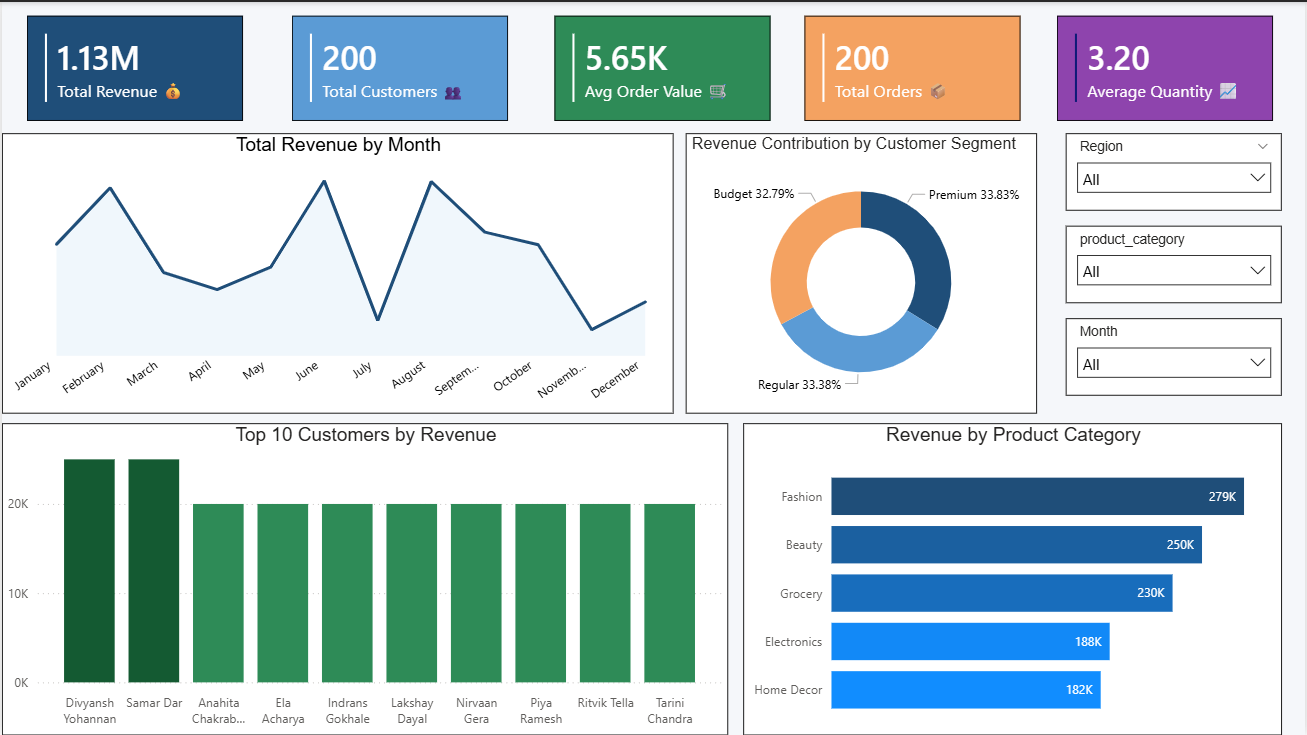

Layout of this report page (visuals, bound fields, positions):
{"tool":"powerbi","page":{"name":"Customer Analytics & Revenue Insights Dashboard","canvas":[1280,720],"ordinal":0},"visuals":[{"type":"cardVisual","fields":{"Data":["customer_purchase_records.Total Revenue"]},"box":[24.5,13.5,212.3,103.1],"z":0},{"type":"cardVisual","fields":{"Data":["customer_purchase_records.Total Orders"]},"box":[787.7,13.5,212.3,103.1],"z":1000},{"type":"cardVisual","fields":{"Data":["customer_purchase_records.Total Customers"]},"box":[284.7,13.5,212.3,103.1],"z":2000},{"type":"cardVisual","fields":{"Data":["customer_purchase_records.Avg Order Value"]},"box":[542.3,13.5,212.3,103.1],"z":3000},{"type":"cardVisual","fields":{"Data":["customer_purchase_records.Average Quantity"]},"box":[1035.6,13.5,212.3,103.1],"z":4000},{"type":"lineChart","fields":{"Y":["customer_purchase_records.Total Revenue"],"Category":["customer_purchase_records.purchase_date.Variation.Date Hierarchy.Month"]},"box":[0,128.8,658.9,274.8],"z":5000},{"type":"clusteredBarChart","title":"Revenue by Product Category","fields":{"Category":["customer_purchase_records.product_category"],"Y":["customer_purchase_records.Total Revenue"]},"box":[727.6,413.5,528.8,306.8],"z":6000},{"type":"donutChart","title":"Revenue Contribution by Customer Segment","fields":{"Category":["customer_purchase_records.customer_segment"],"Y":["customer_purchase_records.Total Revenue"]},"box":[671.2,128.8,344.8,274.8],"z":7000},{"type":"columnChart","title":"Top 10 Customers by Revenue","fields":{"Y":["customer_purchase_records.Total Revenue"],"Category":["customer_purchase_records.customer_name"]},"box":[0,413.5,712.9,306.8],"z":8000},{"type":"slicer","fields":{"Values":["customer_purchase_records.region"]},"box":[1044.2,128.8,212.3,76.1],"z":9000},{"type":"slicer","fields":{"Values":["customer_purchase_records.product_category"]},"box":[1044.2,219.6,212.3,76.1],"z":10000},{"type":"slicer","fields":{"Values":["customer_purchase_records.purchase_date.Variation.Date Hierarchy.Month"]},"box":[1044.2,310.4,212.3,76.1],"z":11000}]}

Visuals, with their boxes in screenshot pixels (x1, y1, x2, y2), scaled from the page's 1280x720 canvas onto the 1307x735 screenshot:
cardVisual - customer_purchase_records.Total Revenue: bbox=[25, 14, 242, 119]
cardVisual - customer_purchase_records.Total Orders: bbox=[804, 14, 1021, 119]
cardVisual - customer_purchase_records.Total Customers: bbox=[291, 14, 507, 119]
cardVisual - customer_purchase_records.Avg Order Value: bbox=[554, 14, 771, 119]
cardVisual - customer_purchase_records.Average Quantity: bbox=[1057, 14, 1274, 119]
lineChart - customer_purchase_records.Total Revenue x customer_purchase_records.purchase_date.Variation.Date Hierarchy.Month: bbox=[0, 131, 673, 412]
"Revenue by Product Category" clusteredBarChart: bbox=[743, 422, 1283, 734]
"Revenue Contribution by Customer Segment" donutChart: bbox=[685, 131, 1037, 412]
"Top 10 Customers by Revenue" columnChart: bbox=[0, 422, 728, 734]
slicer - customer_purchase_records.region: bbox=[1066, 131, 1283, 209]
slicer - customer_purchase_records.product_category: bbox=[1066, 224, 1283, 302]
slicer - customer_purchase_records.purchase_date.Variation.Date Hierarchy.Month: bbox=[1066, 317, 1283, 395]
